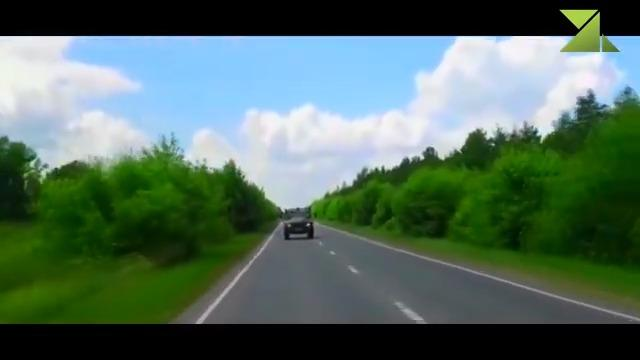MIL_HMMWV: (284, 207, 314, 240)
